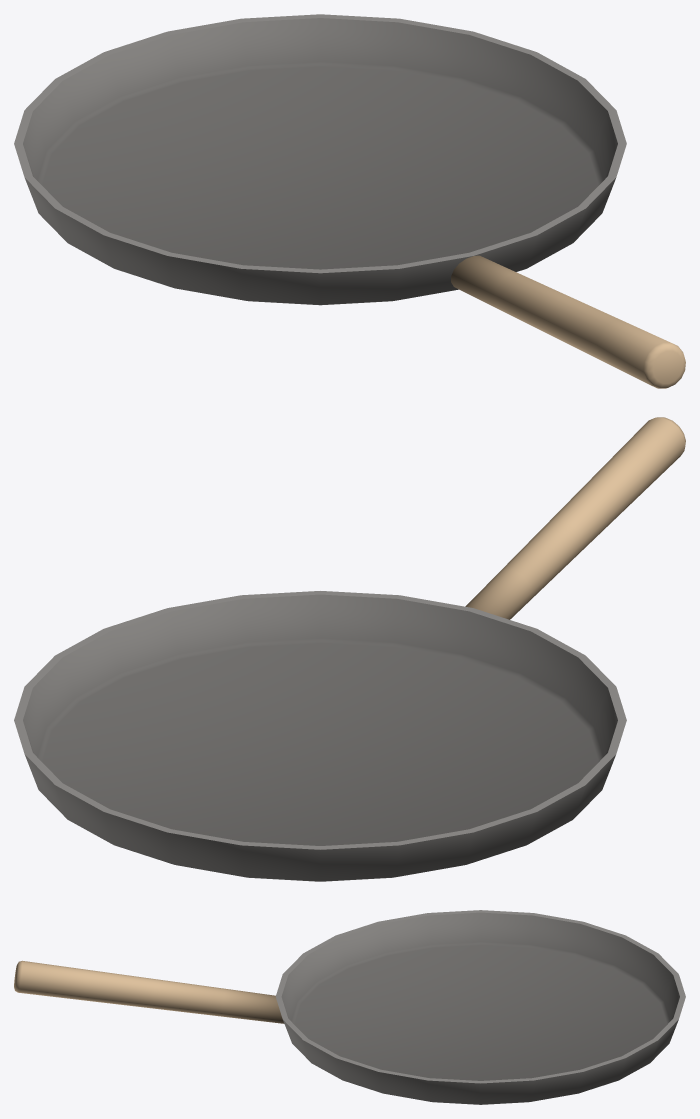
File: frying_pan.glb
3 renders of one model, top to bottom at view 1: azimuth 30°, elevation 25°; view 2: azimuth 150°, elevation 25°; view 3: azimuth 270°, elevation 25°, orthographic. The views are drawn at different scales.
Visible parts, largest first — view 1: frying_pan; view 2: frying_pan; view 3: frying_pan.
Boxes of the visible parts, <box> form: frying_pan: <box>14,14,685,388</box>; frying_pan: <box>14,417,685,881</box>; frying_pan: <box>14,910,685,1104</box>.
Size of the model in its own units: 0.4412 by 0.0759 by 0.7225.
